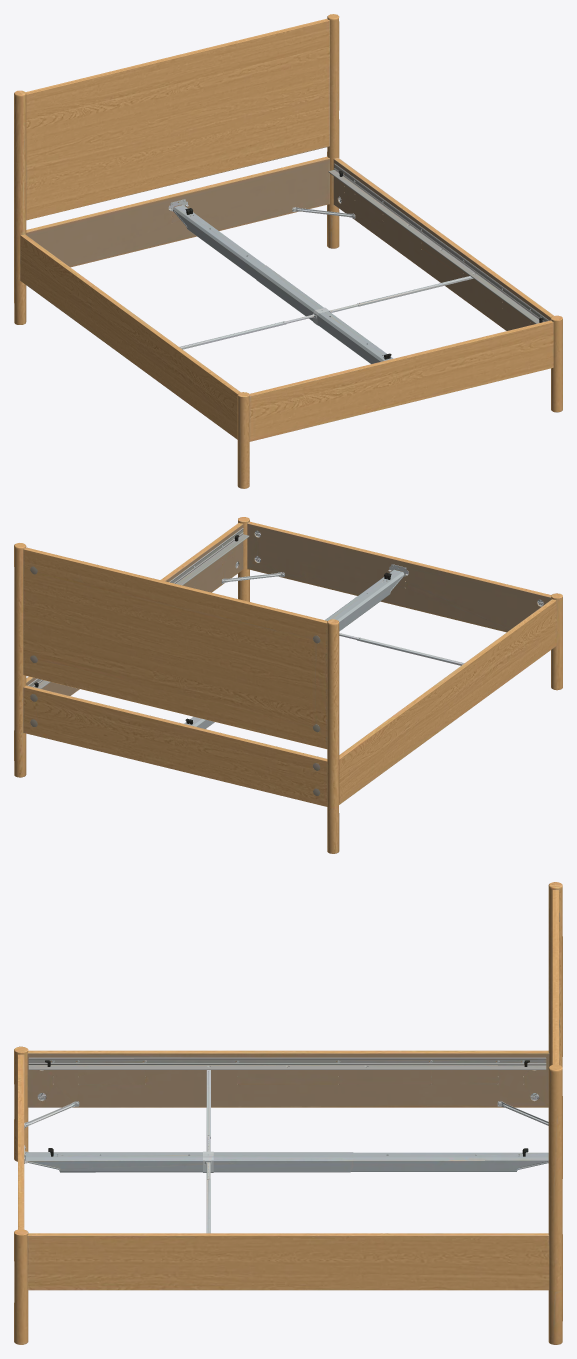
3 renders of one model, top to bottom at view 1: azimuth 30°, elevation 25°; view 2: azimuth 150°, elevation 25°; view 3: azimuth 270°, elevation 25°, orthographic. The views are drawn at different scales.
Parts seen in each view (by area): view 1: 10603632-TONSTAD001; view 2: 10603632-TONSTAD001; view 3: 10603632-TONSTAD001.
Boxes of the visible parts, left/top/right/bottom form: 10603632-TONSTAD001: left=14, top=14, right=562, bottom=488; 10603632-TONSTAD001: left=14, top=517, right=562, bottom=853; 10603632-TONSTAD001: left=14, top=882, right=562, bottom=1344.
Bounding box in the file's own units: 1.7 × 1.16 × 2.09.
Materials: 1 (1 with a texture image).
